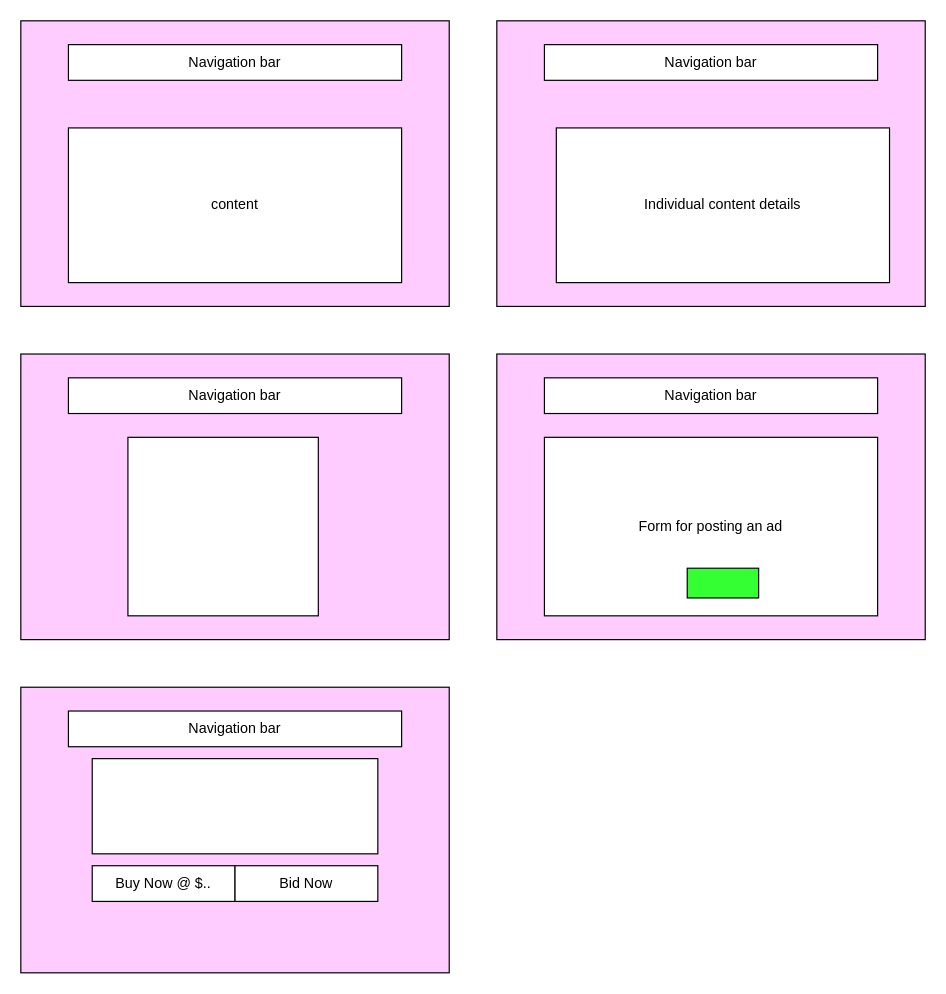
Image size: 946x994. Some labels were removed from this diagram. The centre of each missing label's shape, as x and y in pixels:
"Ad posting" belongs at (x=234, y=805).
"Post Ad" belongs at (x=722, y=582).
"Sign up" belongs at (x=222, y=526).
